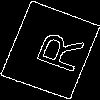R: (25, 25, 86, 76)
